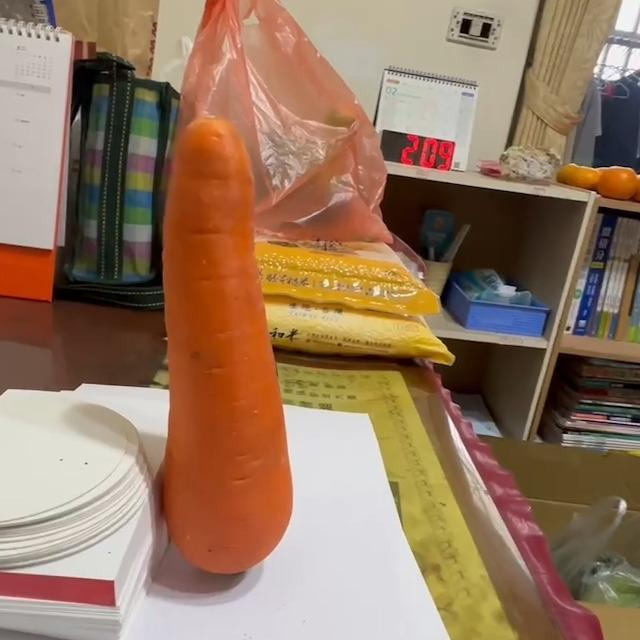carrot: (161, 119, 300, 577)
